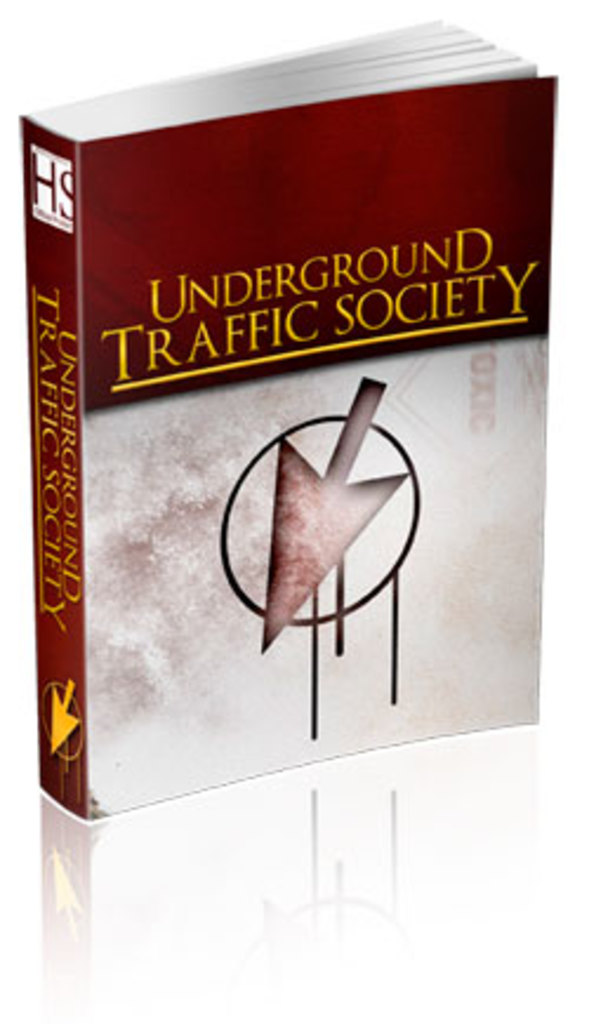Book: (16, 12, 542, 826)
